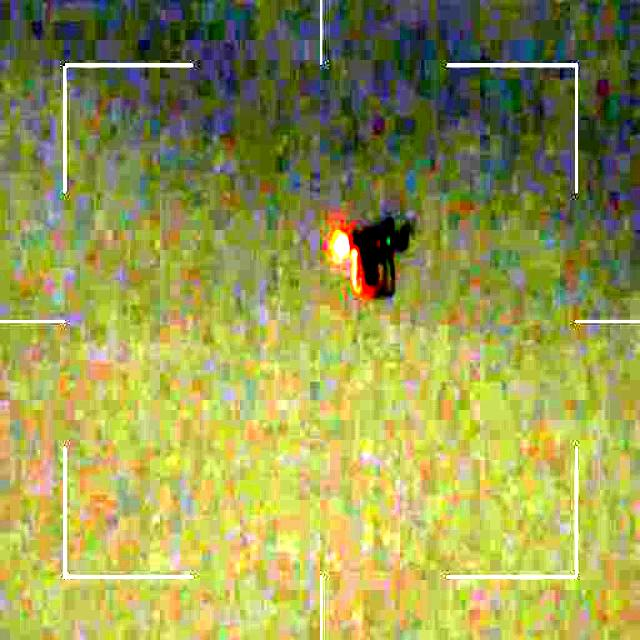bird: (326, 210, 416, 305)
